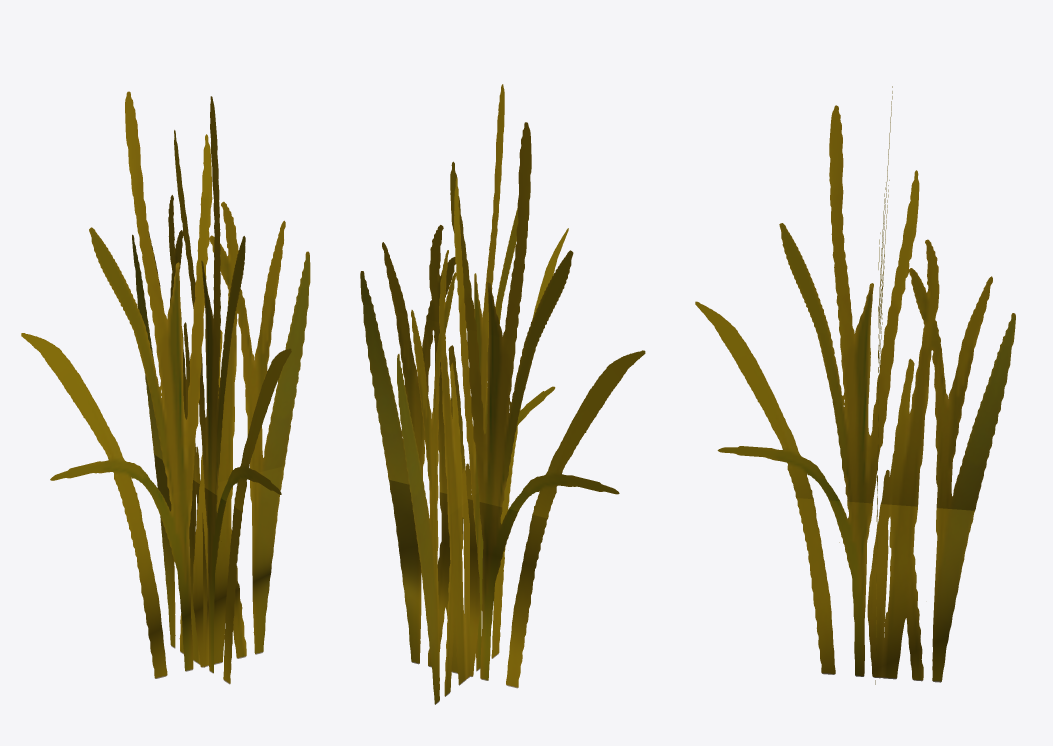
File: FSF_Flower_004.FBX
The picture shows the model from 3 angles, left to right: view 1: azimuth 30°, elevation 25°; view 2: azimuth 150°, elevation 25°; view 3: azimuth 270°, elevation 25°; orthographic projection. The views are drawn at different scales.
Visible parts, largest first — view 1: FSF_Flower_004; view 2: FSF_Flower_004; view 3: FSF_Flower_004.
Part boxes in pixels (x1,y1,x2,y2): FSF_Flower_004: (21,91,310,684); FSF_Flower_004: (360,84,645,704); FSF_Flower_004: (695,86,1015,684).
Bounding box in the file's own units: 18.87 × 37.99 × 20.86.
